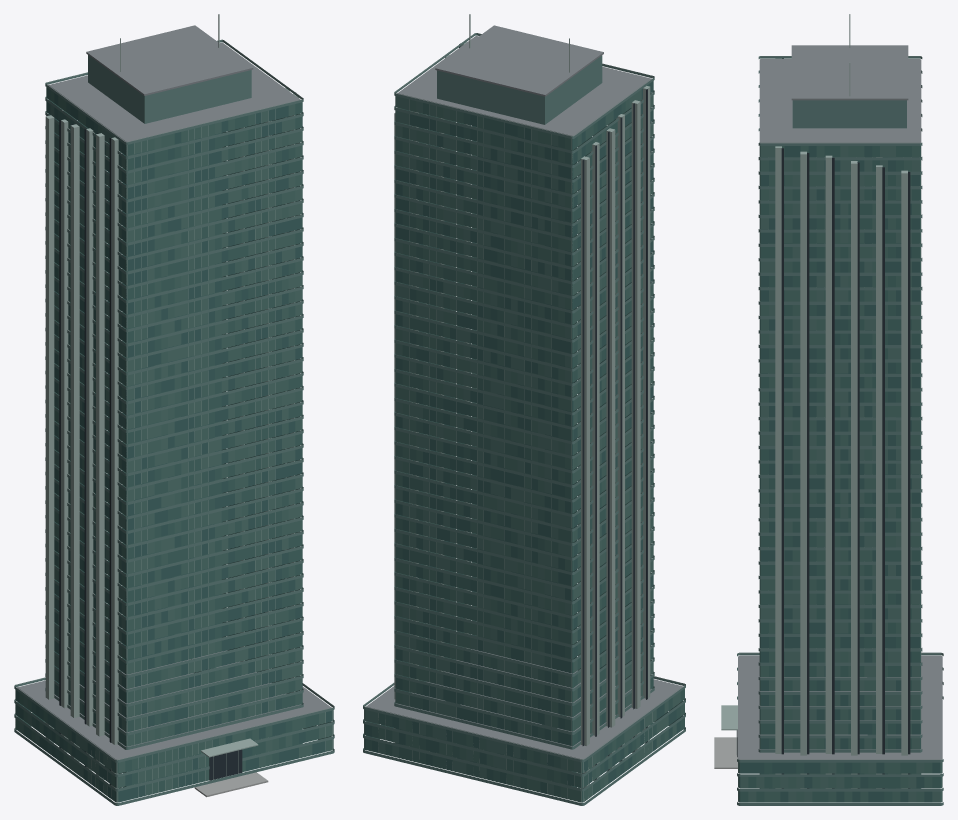
File: emerald-r1-draco.glb
The picture shows the model from 3 angles, left to right: view 1: azimuth 30°, elevation 25°; view 2: azimuth 150°, elevation 25°; view 3: azimuth 270°, elevation 25°; orthographic projection.
Visible parts, largest first — view 1: Emerald stone, Emerald frame, Emerald glass0, Emerald glass2, Emerald glass1, Emerald glass3, Emerald roof, Emerald recess, Emerald paving; view 2: Emerald stone, Emerald frame, Emerald glass3, Emerald glass0, Emerald glass2, Emerald glass1, Emerald roof, Emerald recess; view 3: Emerald frame, Emerald stone, Emerald roof, Emerald glass0, Emerald glass3, Emerald glass2, Emerald glass1, Emerald recess, Emerald paving.
Boxes of the visible parts, box(x1,y1,x2,y2) form: Emerald stone: box(14, 39, 334, 805); Emerald frame: box(15, 14, 333, 802); Emerald glass0: box(15, 87, 333, 802); Emerald glass2: box(19, 101, 332, 802); Emerald glass1: box(15, 90, 333, 795); Emerald glass3: box(15, 93, 333, 802); Emerald roof: box(16, 25, 331, 760); Emerald recess: box(46, 92, 295, 784); Emerald paving: box(194, 772, 268, 797); Emerald stone: box(363, 33, 685, 805); Emerald frame: box(364, 14, 684, 802); Emerald glass3: box(364, 81, 683, 802); Emerald glass0: box(365, 84, 684, 802); Emerald glass2: box(364, 89, 684, 802); Emerald glass1: box(364, 98, 684, 802); Emerald roof: box(365, 25, 683, 759); Emerald recess: box(396, 43, 647, 788); Emerald frame: box(721, 14, 942, 801); Emerald stone: box(737, 56, 943, 805); Emerald roof: box(738, 45, 942, 759); Emerald glass0: box(738, 146, 940, 802); Emerald glass3: box(738, 146, 941, 802); Emerald glass2: box(740, 146, 942, 802); Emerald glass1: box(738, 146, 942, 802); Emerald recess: box(737, 58, 910, 788); Emerald paving: box(714, 737, 737, 768).
Bounding box in the file's own units: 53.42 × 166 × 48.21.
